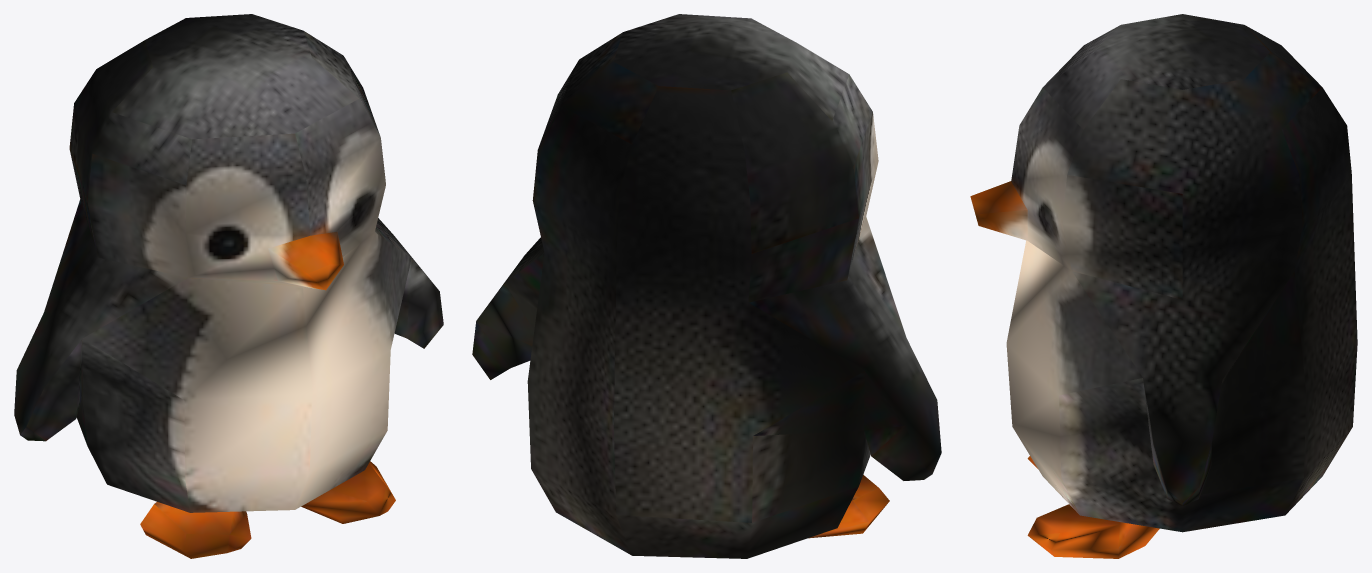
The model's file is penguin-felt-01-44-two-tone-grey.gltf.
The picture shows the model from 3 angles, left to right: view 1: azimuth 30°, elevation 25°; view 2: azimuth 150°, elevation 25°; view 3: azimuth 270°, elevation 25°; orthographic projection. The views are drawn at different scales.
Visible parts, largest first — view 1: penguin-felt-01-44-two-tone-grey; view 2: penguin-felt-01-44-two-tone-grey; view 3: penguin-felt-01-44-two-tone-grey.
Part boxes in pixels (x1=…): penguin-felt-01-44-two-tone-grey: x1=14, y1=14, x2=443, y2=558; penguin-felt-01-44-two-tone-grey: x1=472, y1=14, x2=941, y2=558; penguin-felt-01-44-two-tone-grey: x1=970, y1=14, x2=1357, y2=558.
Bounding box in the file's own units: 0.2 × 0.208 × 0.1555.
1 material, 1 textured.
